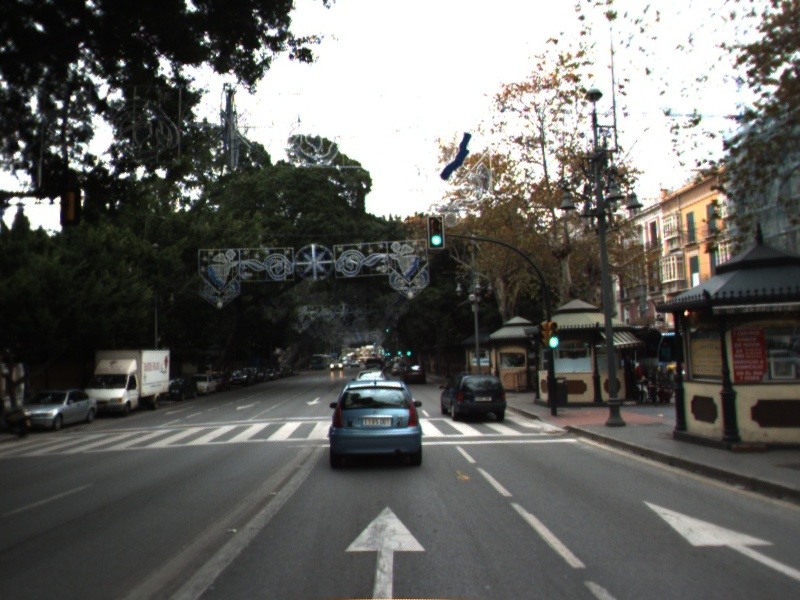STRAIGHT: (639, 497, 800, 580), (340, 501, 430, 600)
